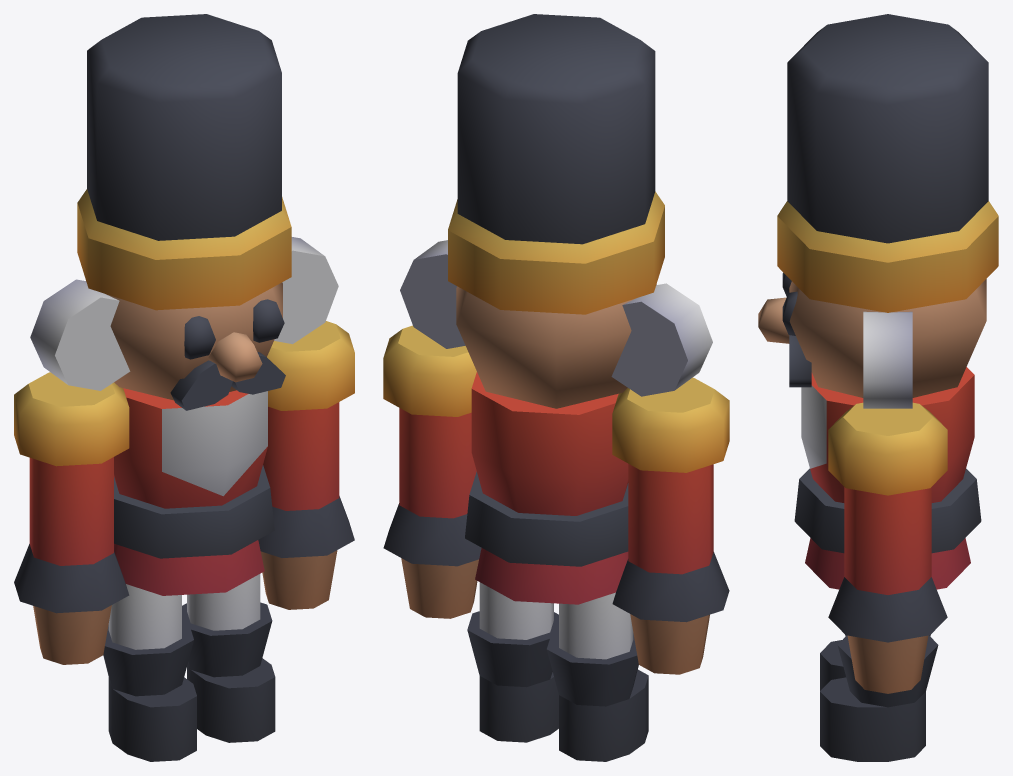
The model's file is nutcracker.glb.
The picture shows the model from 3 angles, left to right: view 1: azimuth 30°, elevation 25°; view 2: azimuth 150°, elevation 25°; view 3: azimuth 270°, elevation 25°; orthographic projection.
Visible parts, largest first — view 1: nutcracker; view 2: nutcracker; view 3: nutcracker.
Boxes of the visible parts, x1,y1,x2,y2 form: nutcracker: (14,14,354,761); nutcracker: (383,14,729,761); nutcracker: (758,14,998,761).
Bounding box in the file's own units: 0.5484 × 1.08 × 0.3475.
